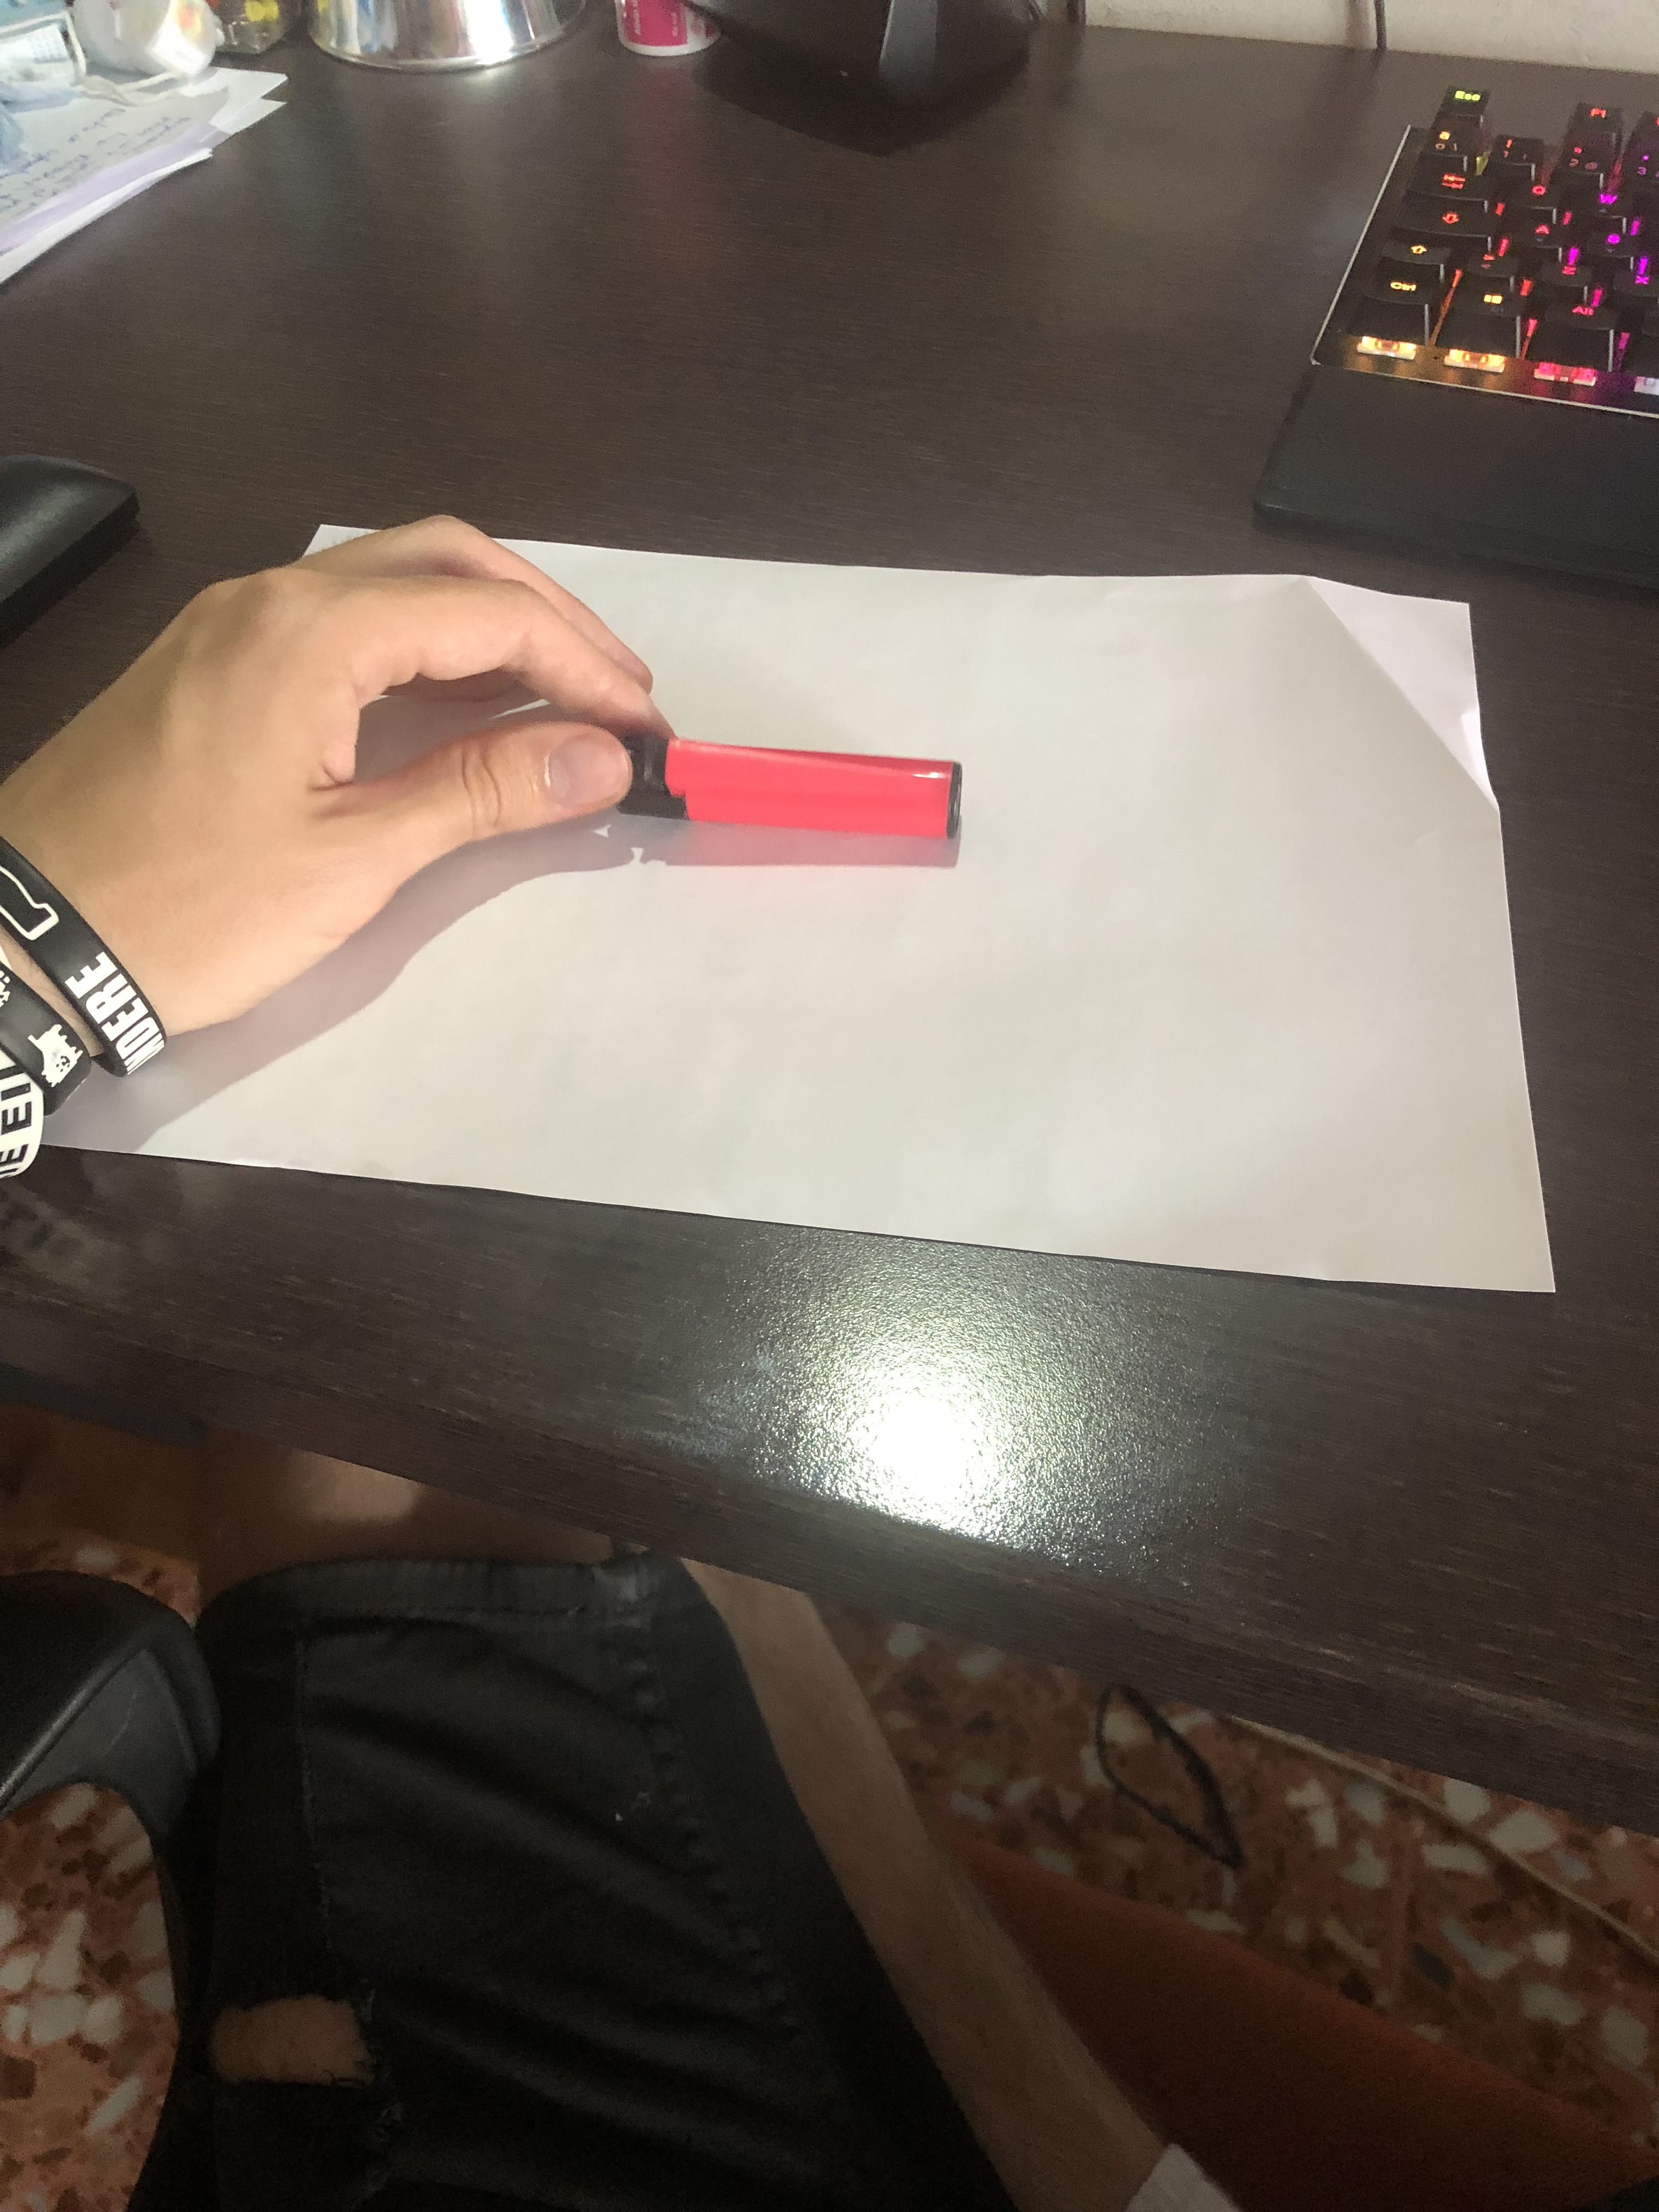Mechero: (587, 712, 983, 876)
